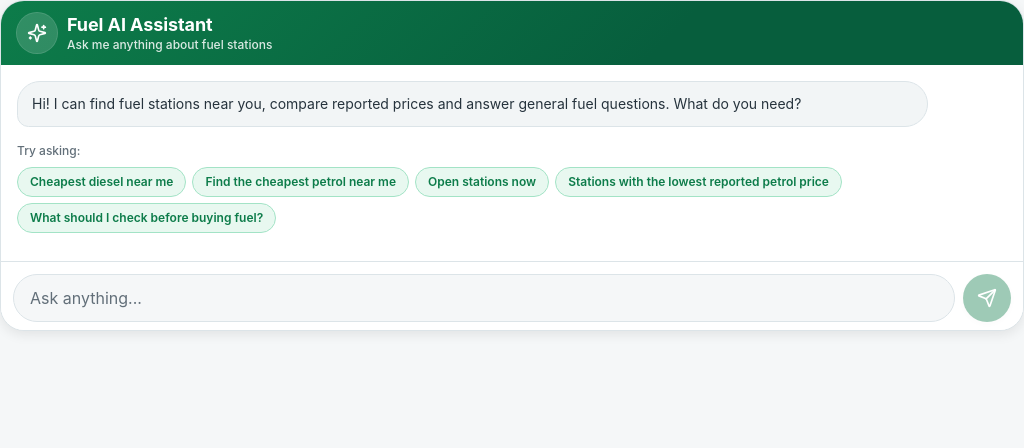
failure handling › shows an error panel and confirms the regular finder is unaffected
Type "cheapest petrol" into the field named "Ask Fuel AI" at (484, 298), box [13, 274, 955, 322]
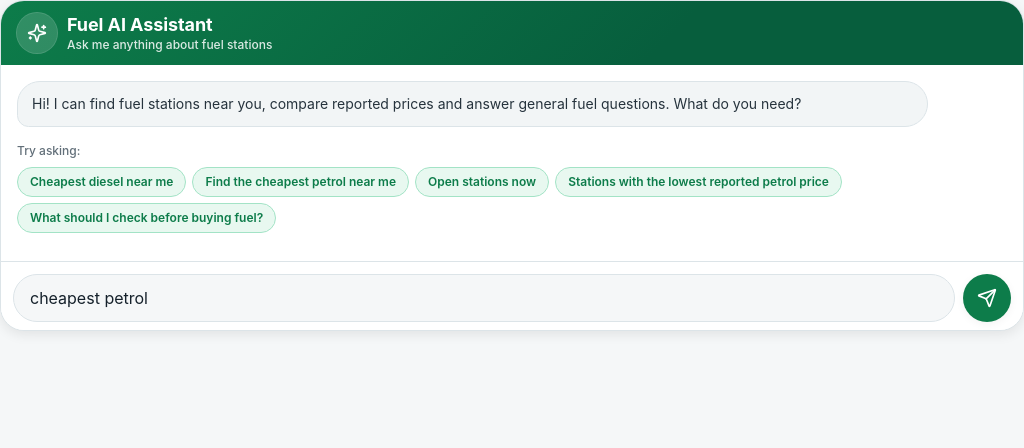
Click the button named "ask fuel ai" at (987, 298), box [963, 274, 1011, 322]
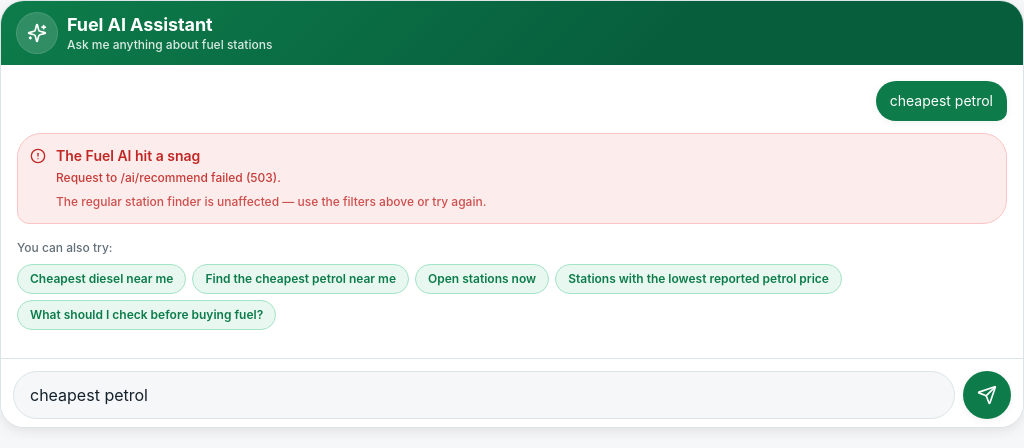
Now the message shows "regular station finder is unaffected", box [56, 194, 486, 208]
